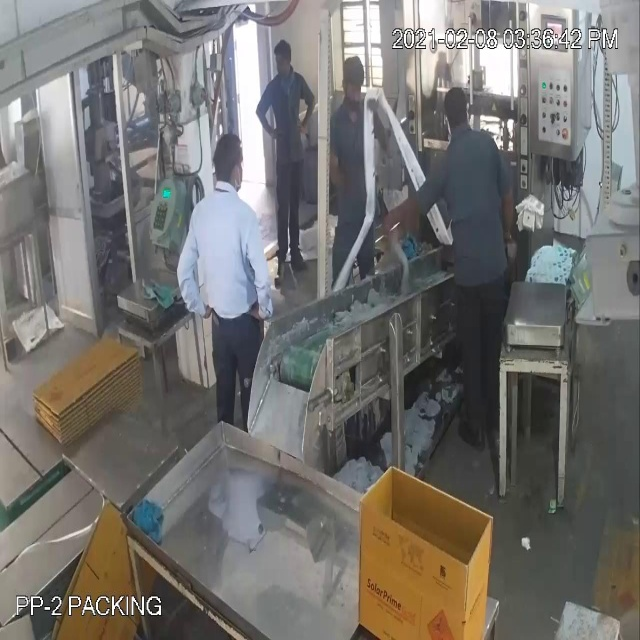Sin_guantes: (172, 231, 220, 334), (245, 229, 283, 332), (376, 197, 426, 245), (250, 84, 287, 147), (297, 78, 324, 147)
